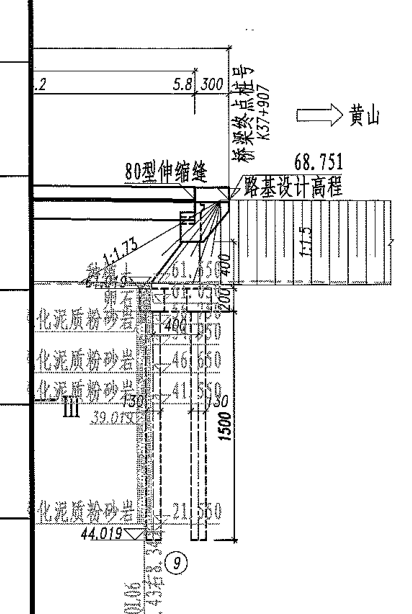C: (76, 270, 215, 579)
